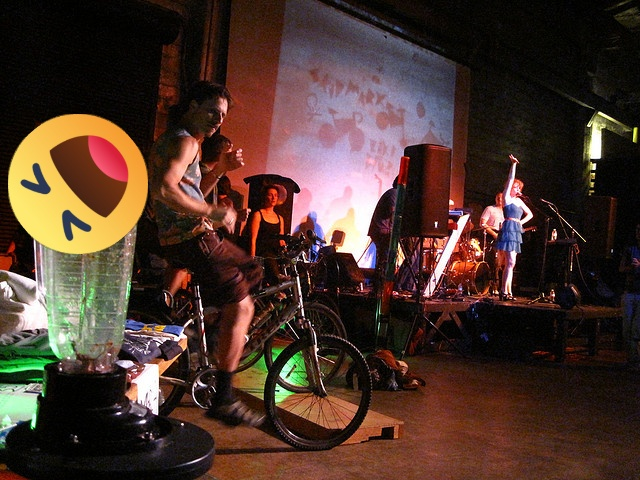haha: (8, 114, 148, 254)
